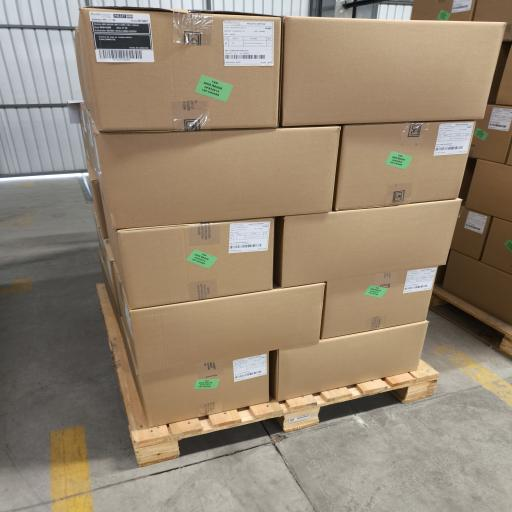pallet: (97, 284, 438, 466), (431, 285, 511, 357)
